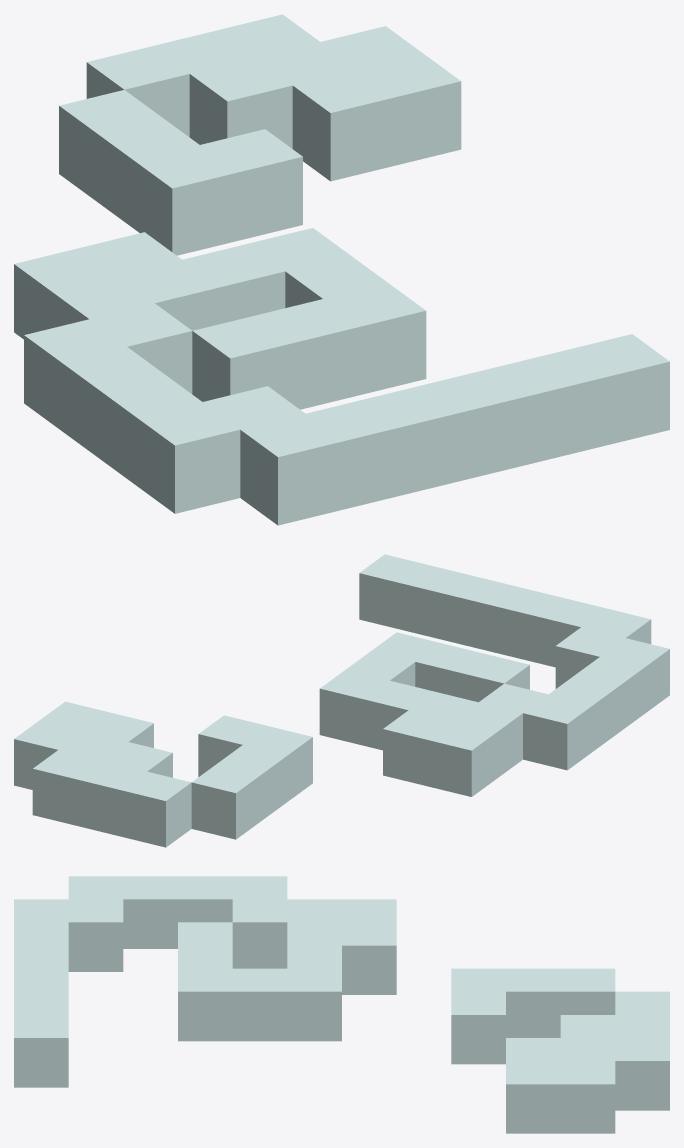
Rendered from Wind.obj.
The picture shows the model from 3 angles, top to bottom: view 1: azimuth 30°, elevation 25°; view 2: azimuth 150°, elevation 25°; view 3: azimuth 270°, elevation 25°; orthographic projection. The views are drawn at different scales.
Bounding box in the file's own units: 0.9 × 0.1 × 1.2.
1 material, 1 textured.
